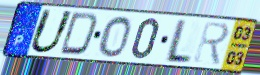0: (129, 17, 162, 61)
D: (57, 11, 100, 58)
L: (162, 18, 195, 65)
O: (97, 15, 132, 59)
R: (191, 20, 231, 68)
U: (27, 7, 76, 55)
